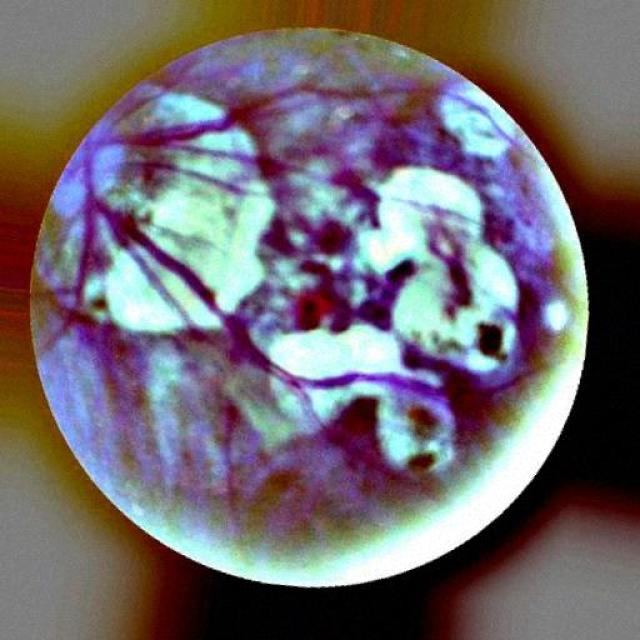Macula: (296, 270, 377, 331)
Nerves: (121, 66, 418, 151), (103, 210, 235, 344), (44, 218, 103, 341)
Optic Disk: (46, 86, 256, 322)
